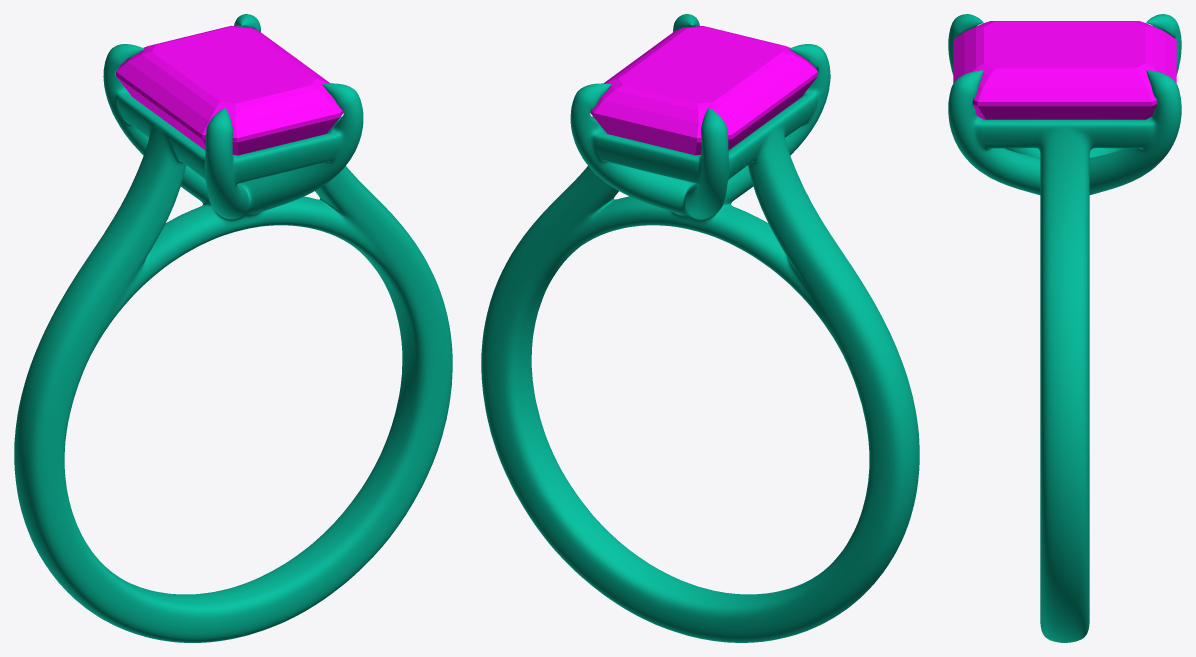
File: BE12112_EM_200ct_RENDER.glb
The picture shows the model from 3 angles, left to right: view 1: azimuth 30°, elevation 25°; view 2: azimuth 150°, elevation 25°; view 3: azimuth 270°, elevation 25°; orthographic projection.
Parts seen in each view (by area): view 1: Metal 01, CS_Diamond_Emerald; view 2: Metal 01, CS_Diamond_Emerald; view 3: Metal 01, CS_Diamond_Emerald.
Boxes of the visible parts, x1,y1,x2,y2 form: Metal 01: [14, 14, 452, 642]; CS_Diamond_Emerald: [116, 25, 343, 155]; Metal 01: [481, 14, 919, 642]; CS_Diamond_Emerald: [590, 26, 817, 155]; Metal 01: [948, 14, 1181, 642]; CS_Diamond_Emerald: [953, 21, 1176, 119].
Bounding box in the file's own units: 20.13 × 25.57 × 9.41.
